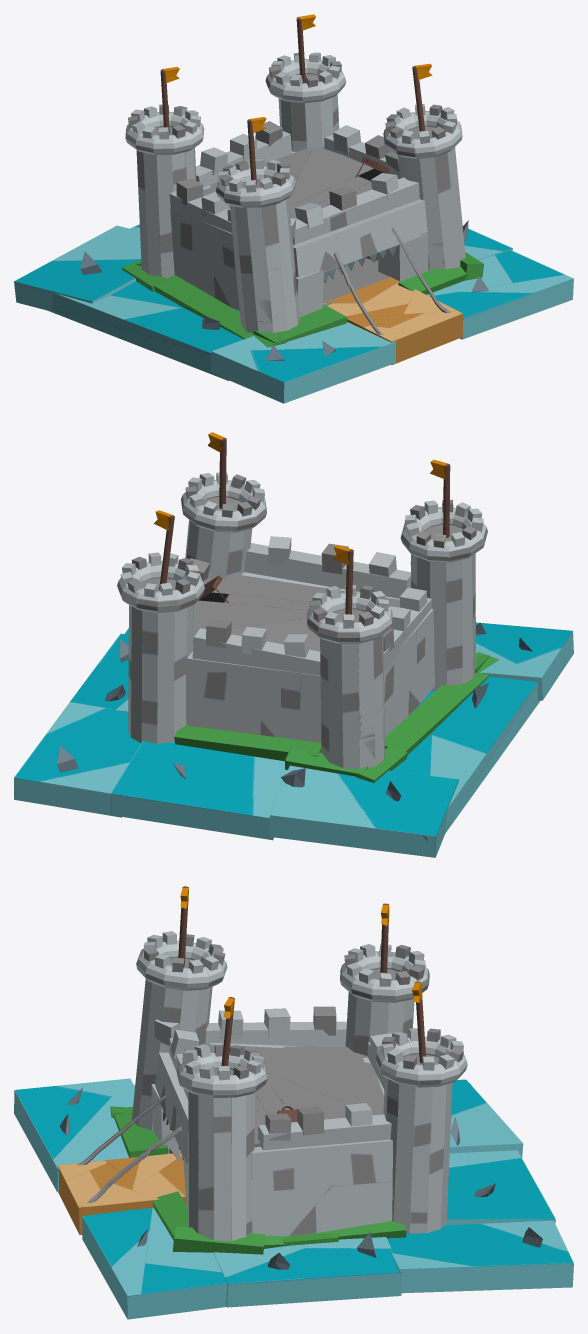
3 views of the same model, one above another, from view 1: azimuth 30°, elevation 25°; view 2: azimuth 150°, elevation 25°; view 3: azimuth 270°, elevation 25° (orthographic). The views are drawn at different scales.
Parts seen in each view (by area): view 1: model.obj.1; view 2: model.obj.1; view 3: model.obj.1.
Boxes of the visible parts, bbox=[...] form: model.obj.1: bbox=[14, 14, 573, 403]; model.obj.1: bbox=[14, 432, 573, 857]; model.obj.1: bbox=[14, 886, 573, 1319].
Size of the model in its own units: 1.99 by 1.13 by 2.06.
Materials: 1 (1 with a texture image).
